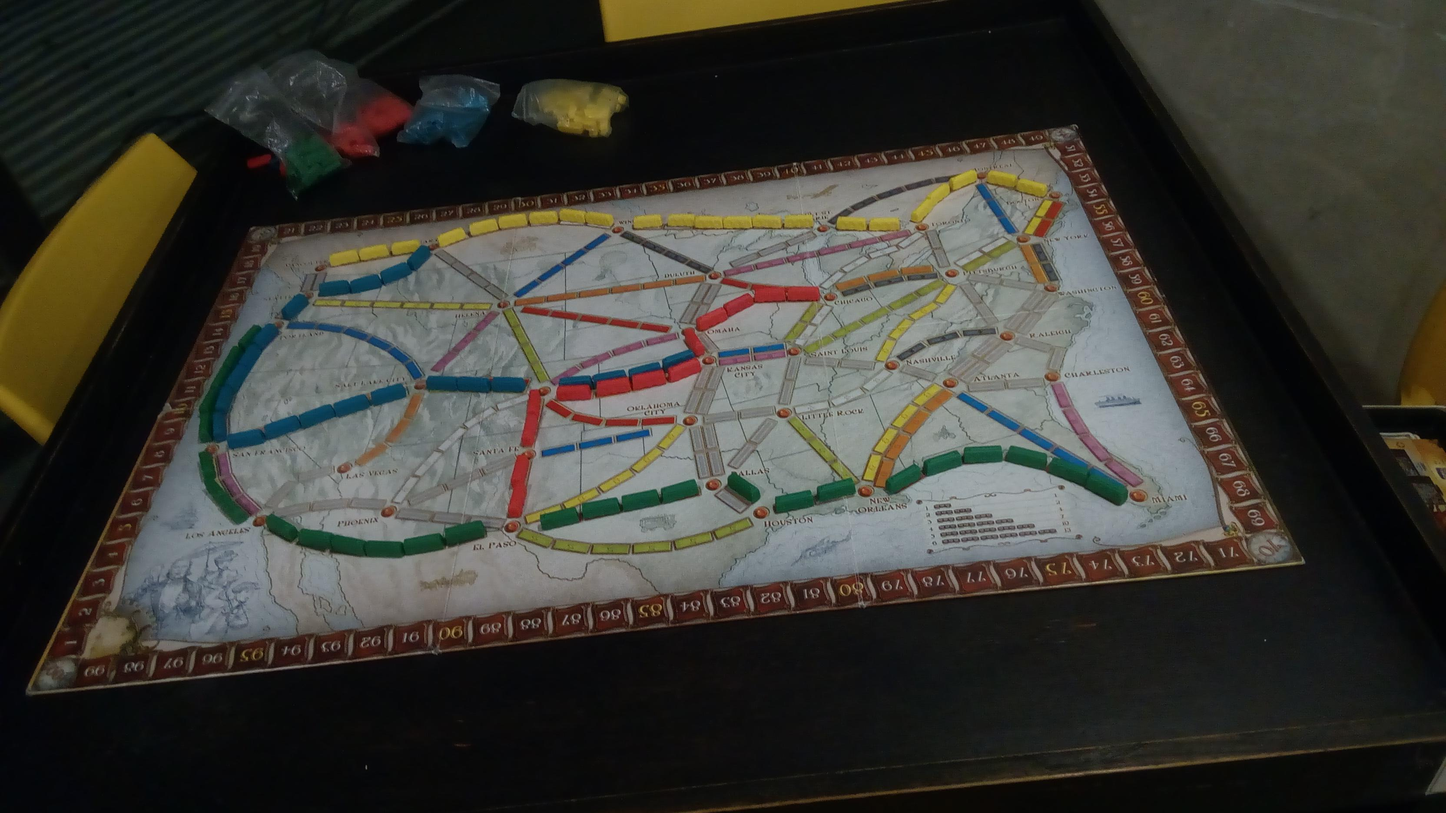blue_train: (296, 404, 335, 428), (369, 383, 407, 405), (264, 416, 301, 438), (334, 395, 370, 417), (227, 429, 265, 449), (224, 364, 250, 393), (281, 294, 309, 320), (252, 323, 279, 349), (238, 343, 262, 371), (214, 385, 237, 414), (349, 274, 382, 293), (380, 264, 411, 284), (661, 350, 695, 368), (407, 246, 430, 270), (318, 279, 350, 296), (491, 377, 526, 392), (212, 408, 227, 441), (427, 375, 457, 391), (457, 377, 489, 392), (594, 370, 627, 384), (628, 362, 661, 376), (559, 375, 592, 387)
green_train: (1084, 469, 1128, 505), (1046, 456, 1088, 484), (443, 520, 486, 545), (885, 464, 922, 493), (1004, 446, 1048, 470), (923, 451, 963, 476), (218, 493, 250, 524), (815, 478, 854, 502), (403, 533, 444, 555), (728, 474, 760, 502), (774, 491, 814, 513), (541, 507, 579, 530), (266, 514, 298, 541), (580, 498, 621, 519), (661, 480, 700, 502), (620, 490, 660, 511), (297, 529, 333, 551), (331, 533, 365, 556), (963, 445, 1003, 463), (365, 540, 405, 558), (204, 476, 225, 507), (221, 345, 244, 370), (199, 387, 220, 413), (198, 451, 216, 481), (239, 325, 261, 349), (210, 365, 232, 389), (198, 412, 213, 441)
red_train: (665, 358, 701, 382), (631, 369, 666, 391), (507, 482, 527, 517), (696, 308, 727, 330), (596, 377, 630, 397), (683, 328, 707, 356), (725, 294, 753, 315), (556, 385, 593, 400), (522, 415, 539, 447), (512, 456, 530, 486), (752, 286, 785, 302), (525, 388, 541, 420), (786, 286, 819, 301)
yellow_train: (910, 199, 936, 223), (985, 170, 1018, 188), (1015, 179, 1048, 196), (950, 170, 977, 190), (438, 228, 466, 247), (329, 249, 359, 266), (469, 219, 498, 236), (926, 183, 949, 204), (359, 244, 389, 260), (836, 216, 868, 230), (391, 240, 420, 255), (752, 215, 783, 229), (784, 214, 814, 228), (867, 217, 899, 230), (498, 214, 527, 228), (529, 211, 558, 225), (585, 212, 614, 226), (633, 215, 662, 229), (667, 213, 695, 227), (559, 208, 585, 223), (693, 215, 723, 228), (723, 215, 752, 228)
